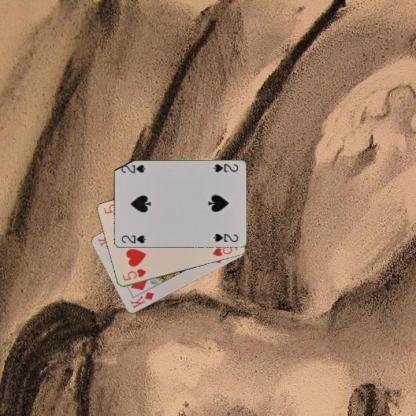2s: (210, 162, 240, 174), (118, 233, 147, 244)
5h: (120, 266, 148, 282)
Kd: (128, 290, 156, 310)
